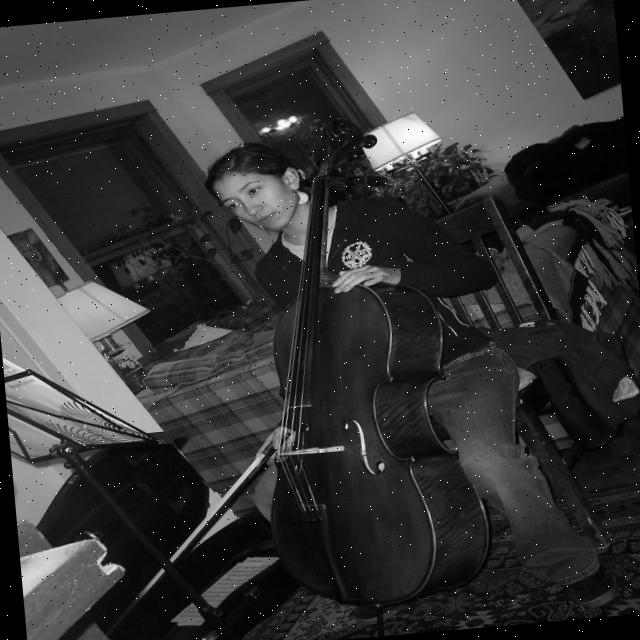cello: (238, 104, 507, 621)
